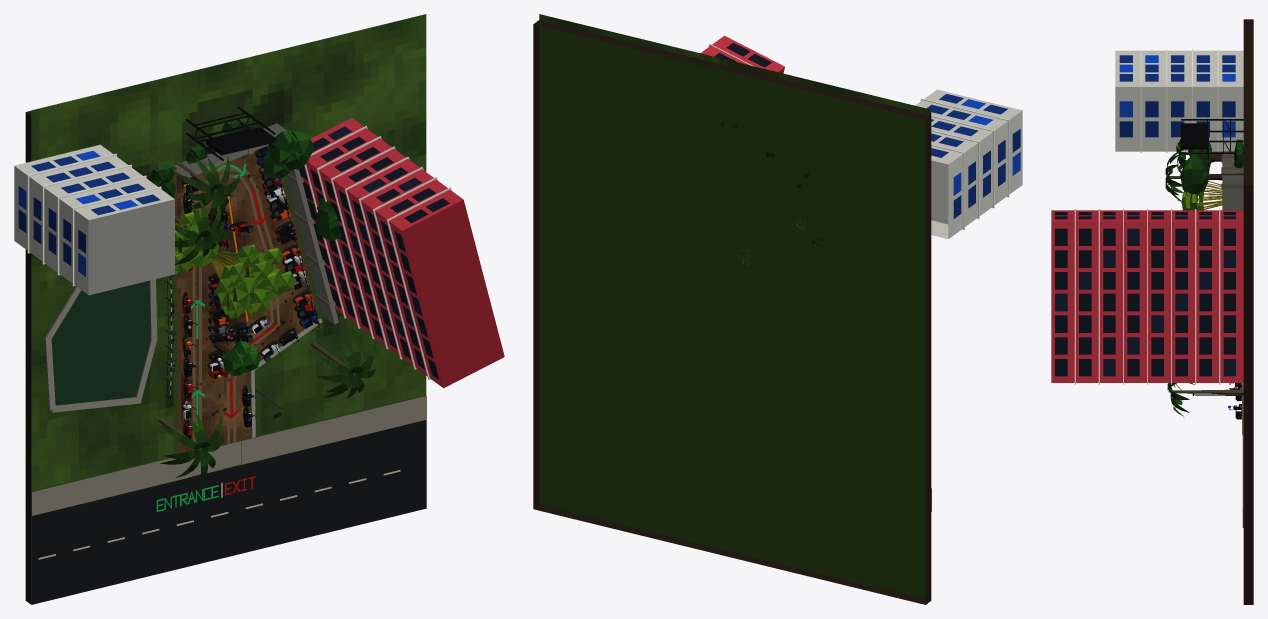
The model's file is ZoneA_realistic.obj.
3 renders of one model, left to right at view 1: azimuth 30°, elevation 25°; view 2: azimuth 150°, elevation 25°; view 3: azimuth 270°, elevation 25°, orthographic. The views are drawn at different scales.
Parts seen in each view (by area): view 1: ZoneA_realistic; view 2: ZoneA_realistic; view 3: ZoneA_realistic.
Part boxes in pixels (box(x1,y1,x2,y2)): ZoneA_realistic: box(14, 14, 504, 604); ZoneA_realistic: box(533, 14, 1022, 604); ZoneA_realistic: box(1051, 19, 1253, 604).
Bounding box in the file's own units: 28.79 × 32.9 × 14.2.
